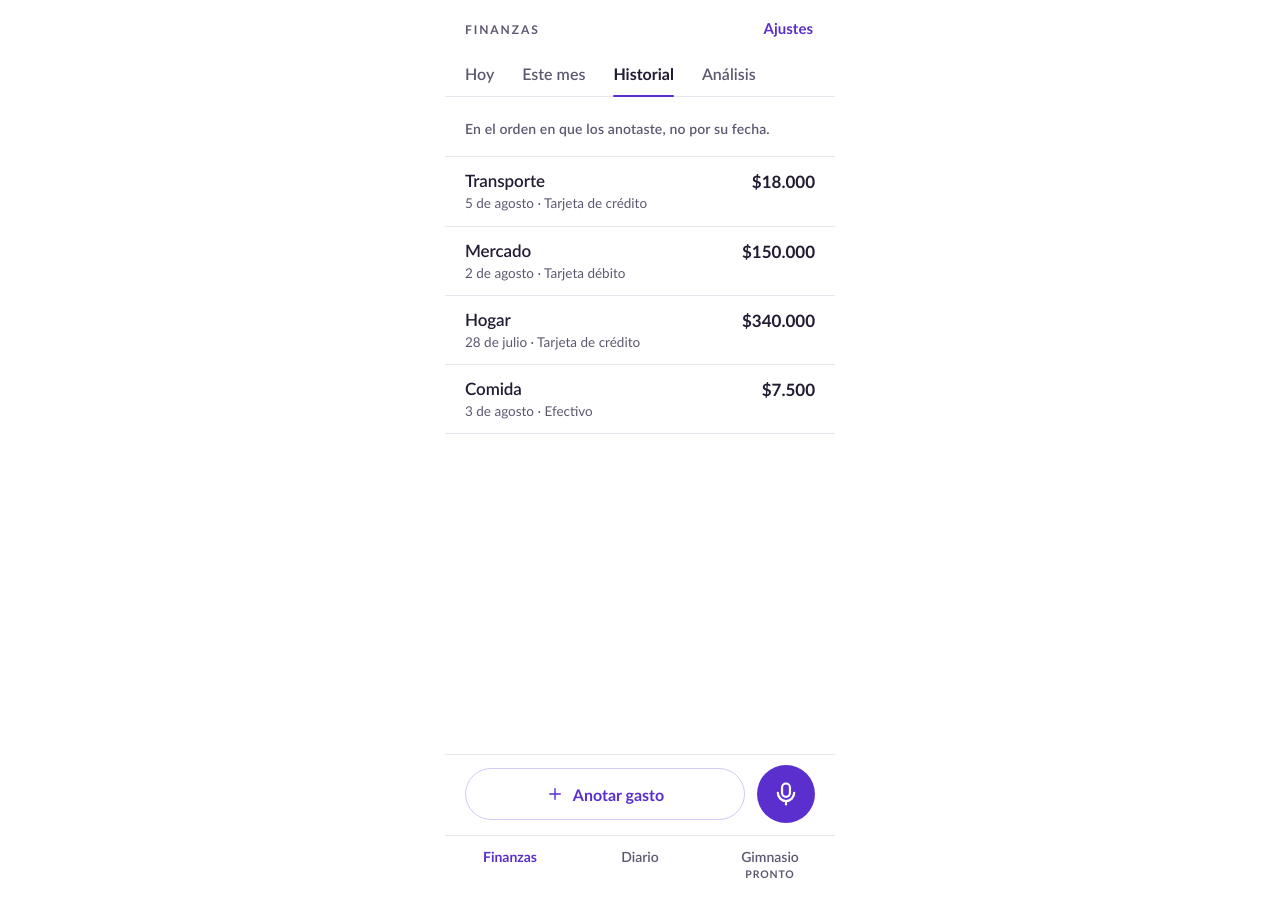
Test: criteria 16.11, 17.9 — a deleted expense leaves Historial entirely › removes it with no gap or placeholder, and does not land on its dead detail
Click the text "Transporte". click: [505, 181]
box: [465, 170, 545, 191]
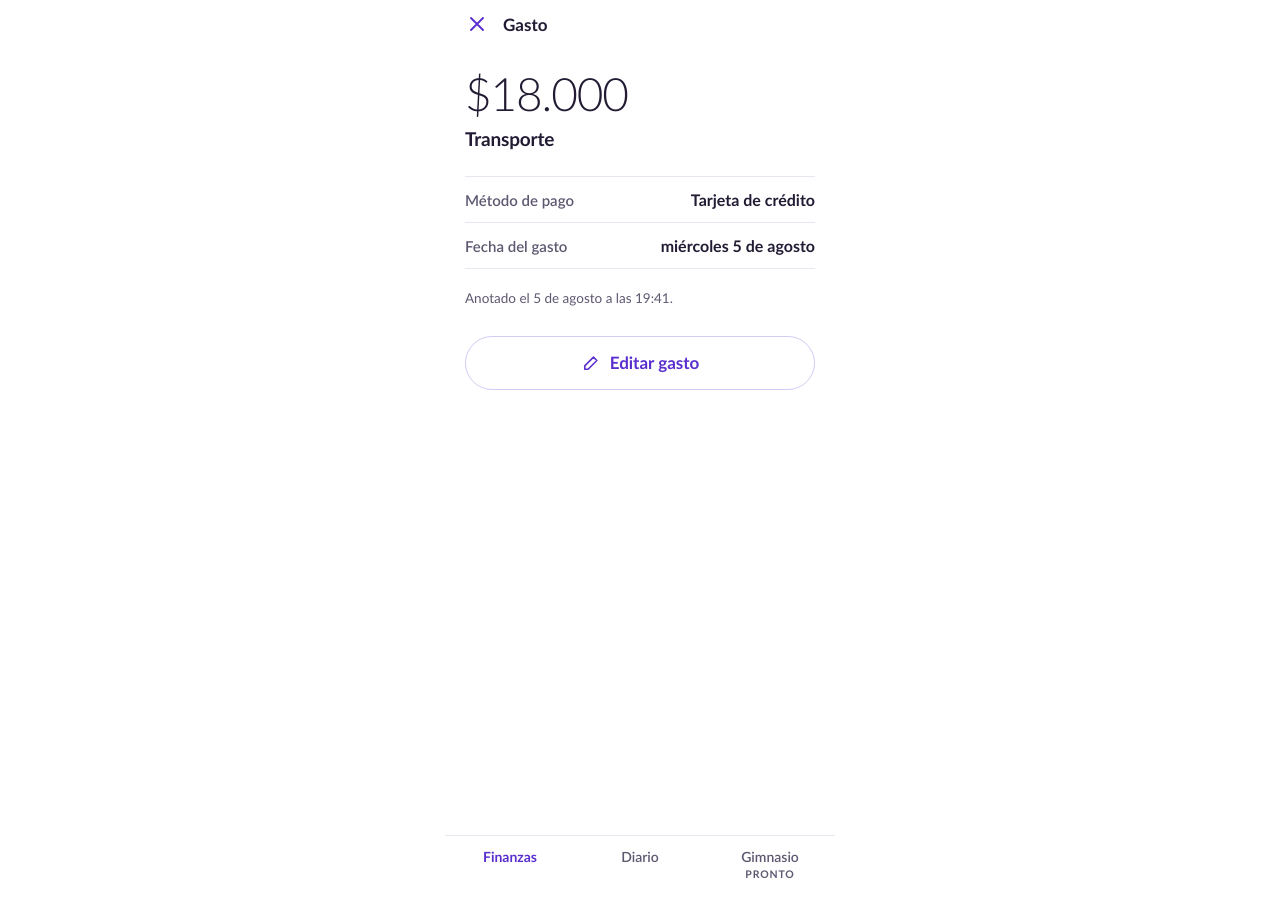
Click the button "Editar gasto". click: [640, 363]
box: [465, 336, 815, 390]
(page scrolled)
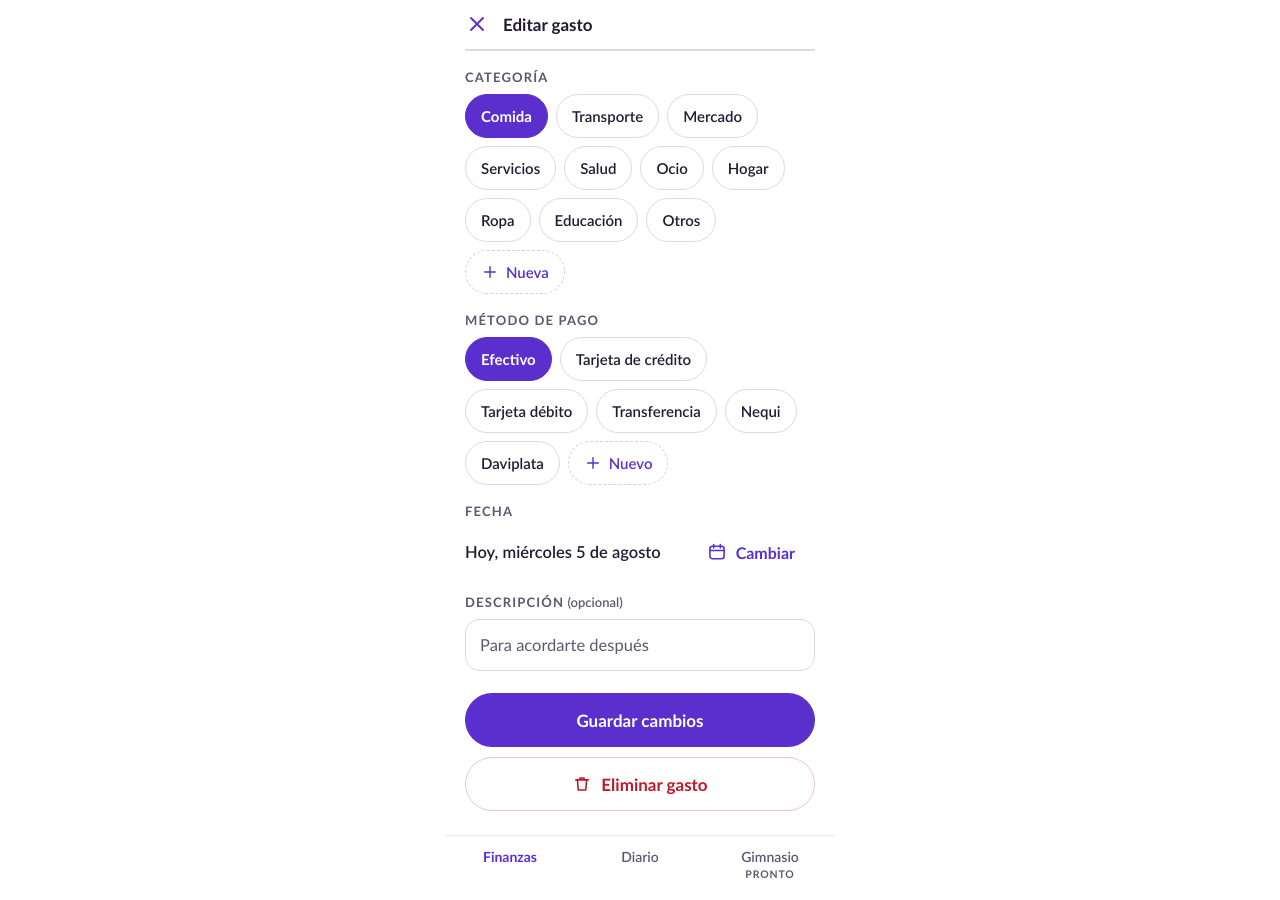
Click the button "Eliminar gasto". click: [640, 784]
box: [465, 757, 815, 811]
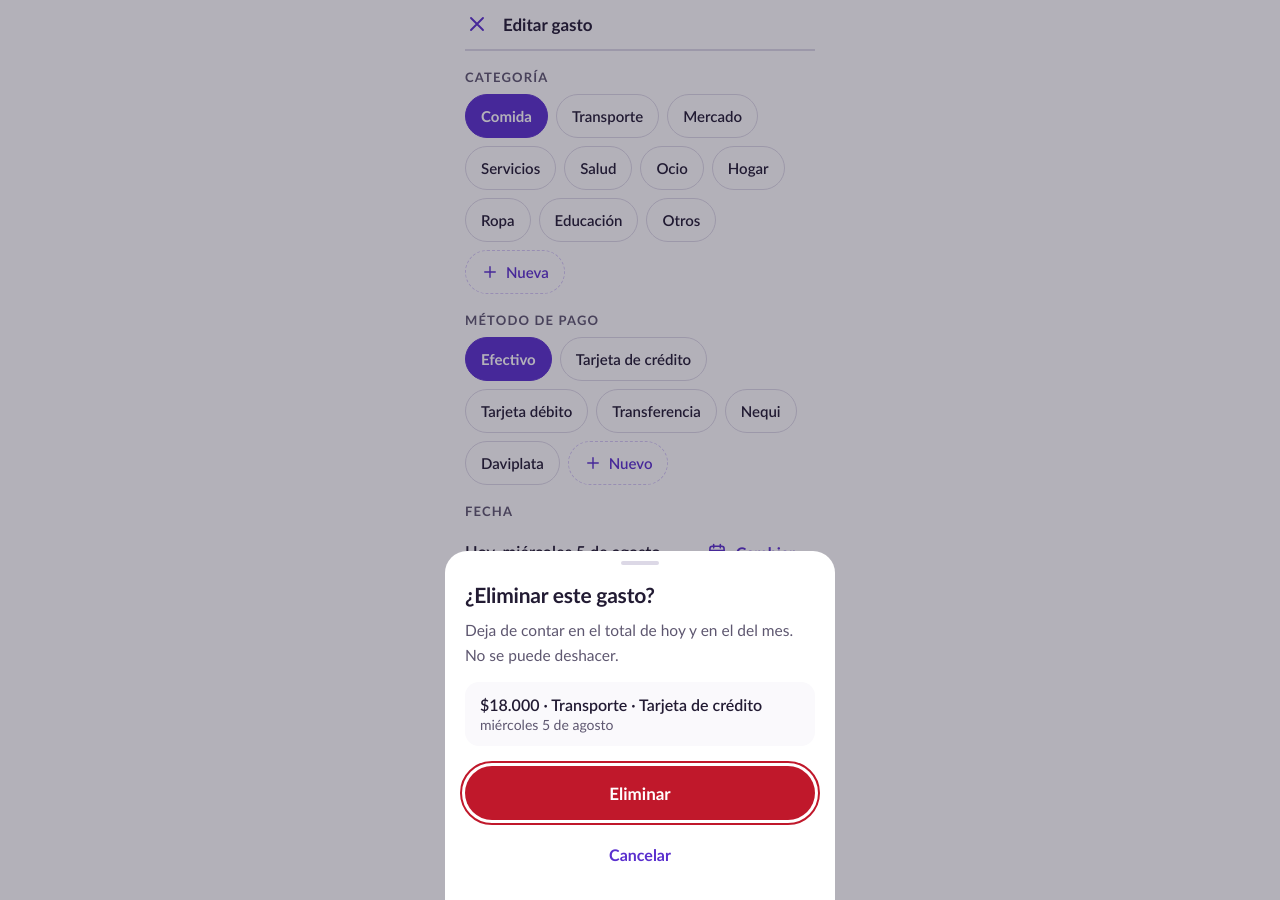
Click the button "Eliminar". click: [640, 793]
box: [465, 766, 815, 820]
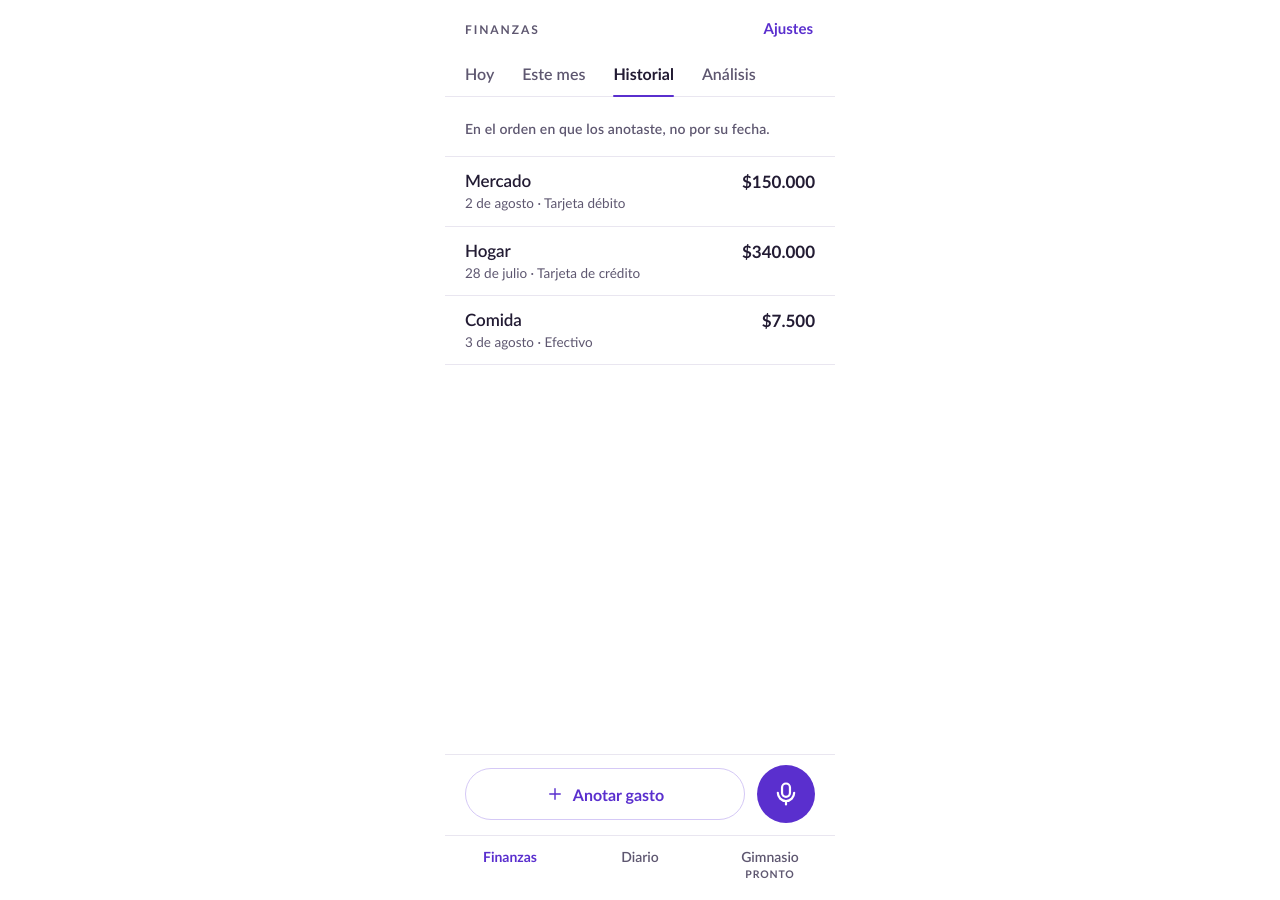
Result: the text "Mercado" is shown at [465, 170, 531, 191]
Result: the text "En el orden en que los anotaste, no por su fecha." is shown at [465, 119, 785, 139]
Result: the radio button "Transporte" is gone
